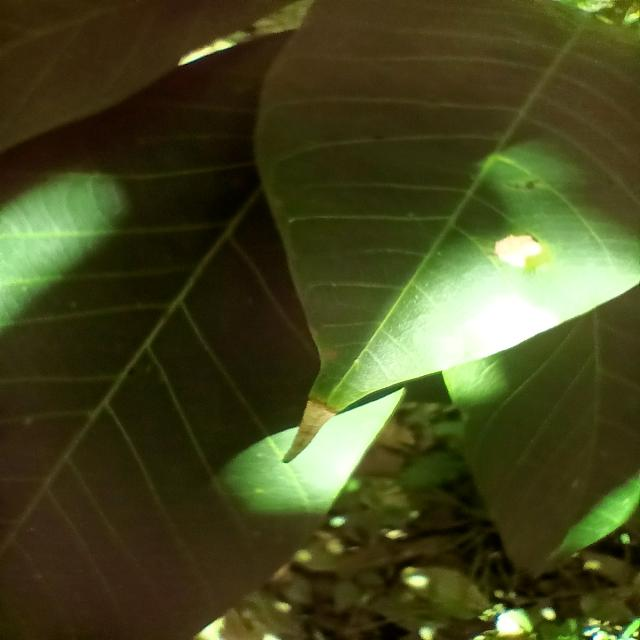Leaf-Blight: (282, 397, 338, 464), (494, 234, 542, 266)
